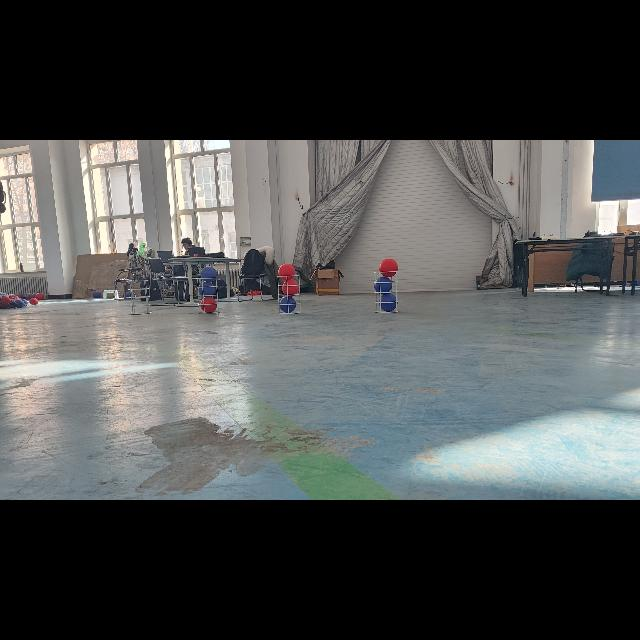B: (374, 276, 392, 294), (379, 293, 397, 311), (198, 282, 216, 296), (202, 266, 216, 282)
R: (379, 258, 398, 276), (200, 297, 218, 313)
S: (368, 268, 402, 314), (274, 272, 304, 316), (193, 275, 221, 317), (129, 280, 157, 316)
